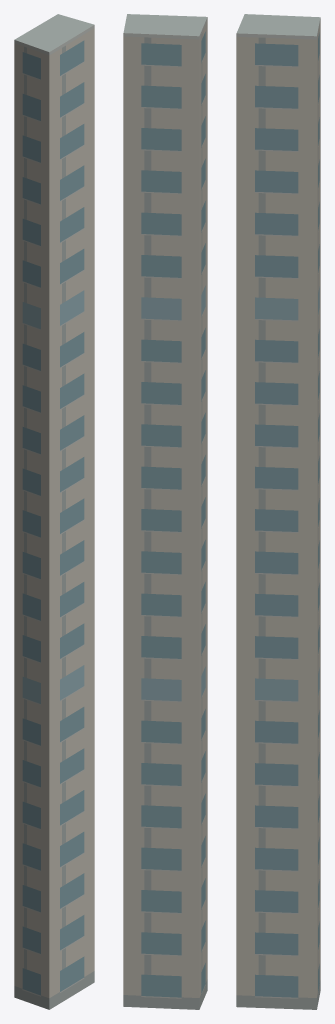
The model's file is survey-upis-32577655.glb.
3 renders of one model, left to right at view 1: azimuth 30°, elevation 25°; view 2: azimuth 150°, elevation 25°; view 3: azimuth 330°, elevation 25°, orthographic.
Visible parts, largest first — view 1: survey-upis-32577655.tmp; view 2: survey-upis-32577655.tmp; view 3: survey-upis-32577655.tmp.
Part boxes in pixels (<box>): survey-upis-32577655.tmp: <box>14,14,94,1009</box>; survey-upis-32577655.tmp: <box>123,14,207,1009</box>; survey-upis-32577655.tmp: <box>236,14,320,1009</box>.
Size of the model in its own units: 5.81 by 70.15 by 4.92.
